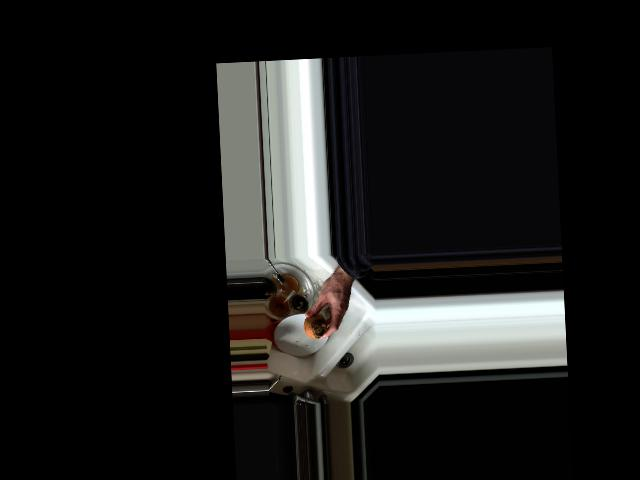sweet_potato: (302, 308, 328, 340)
